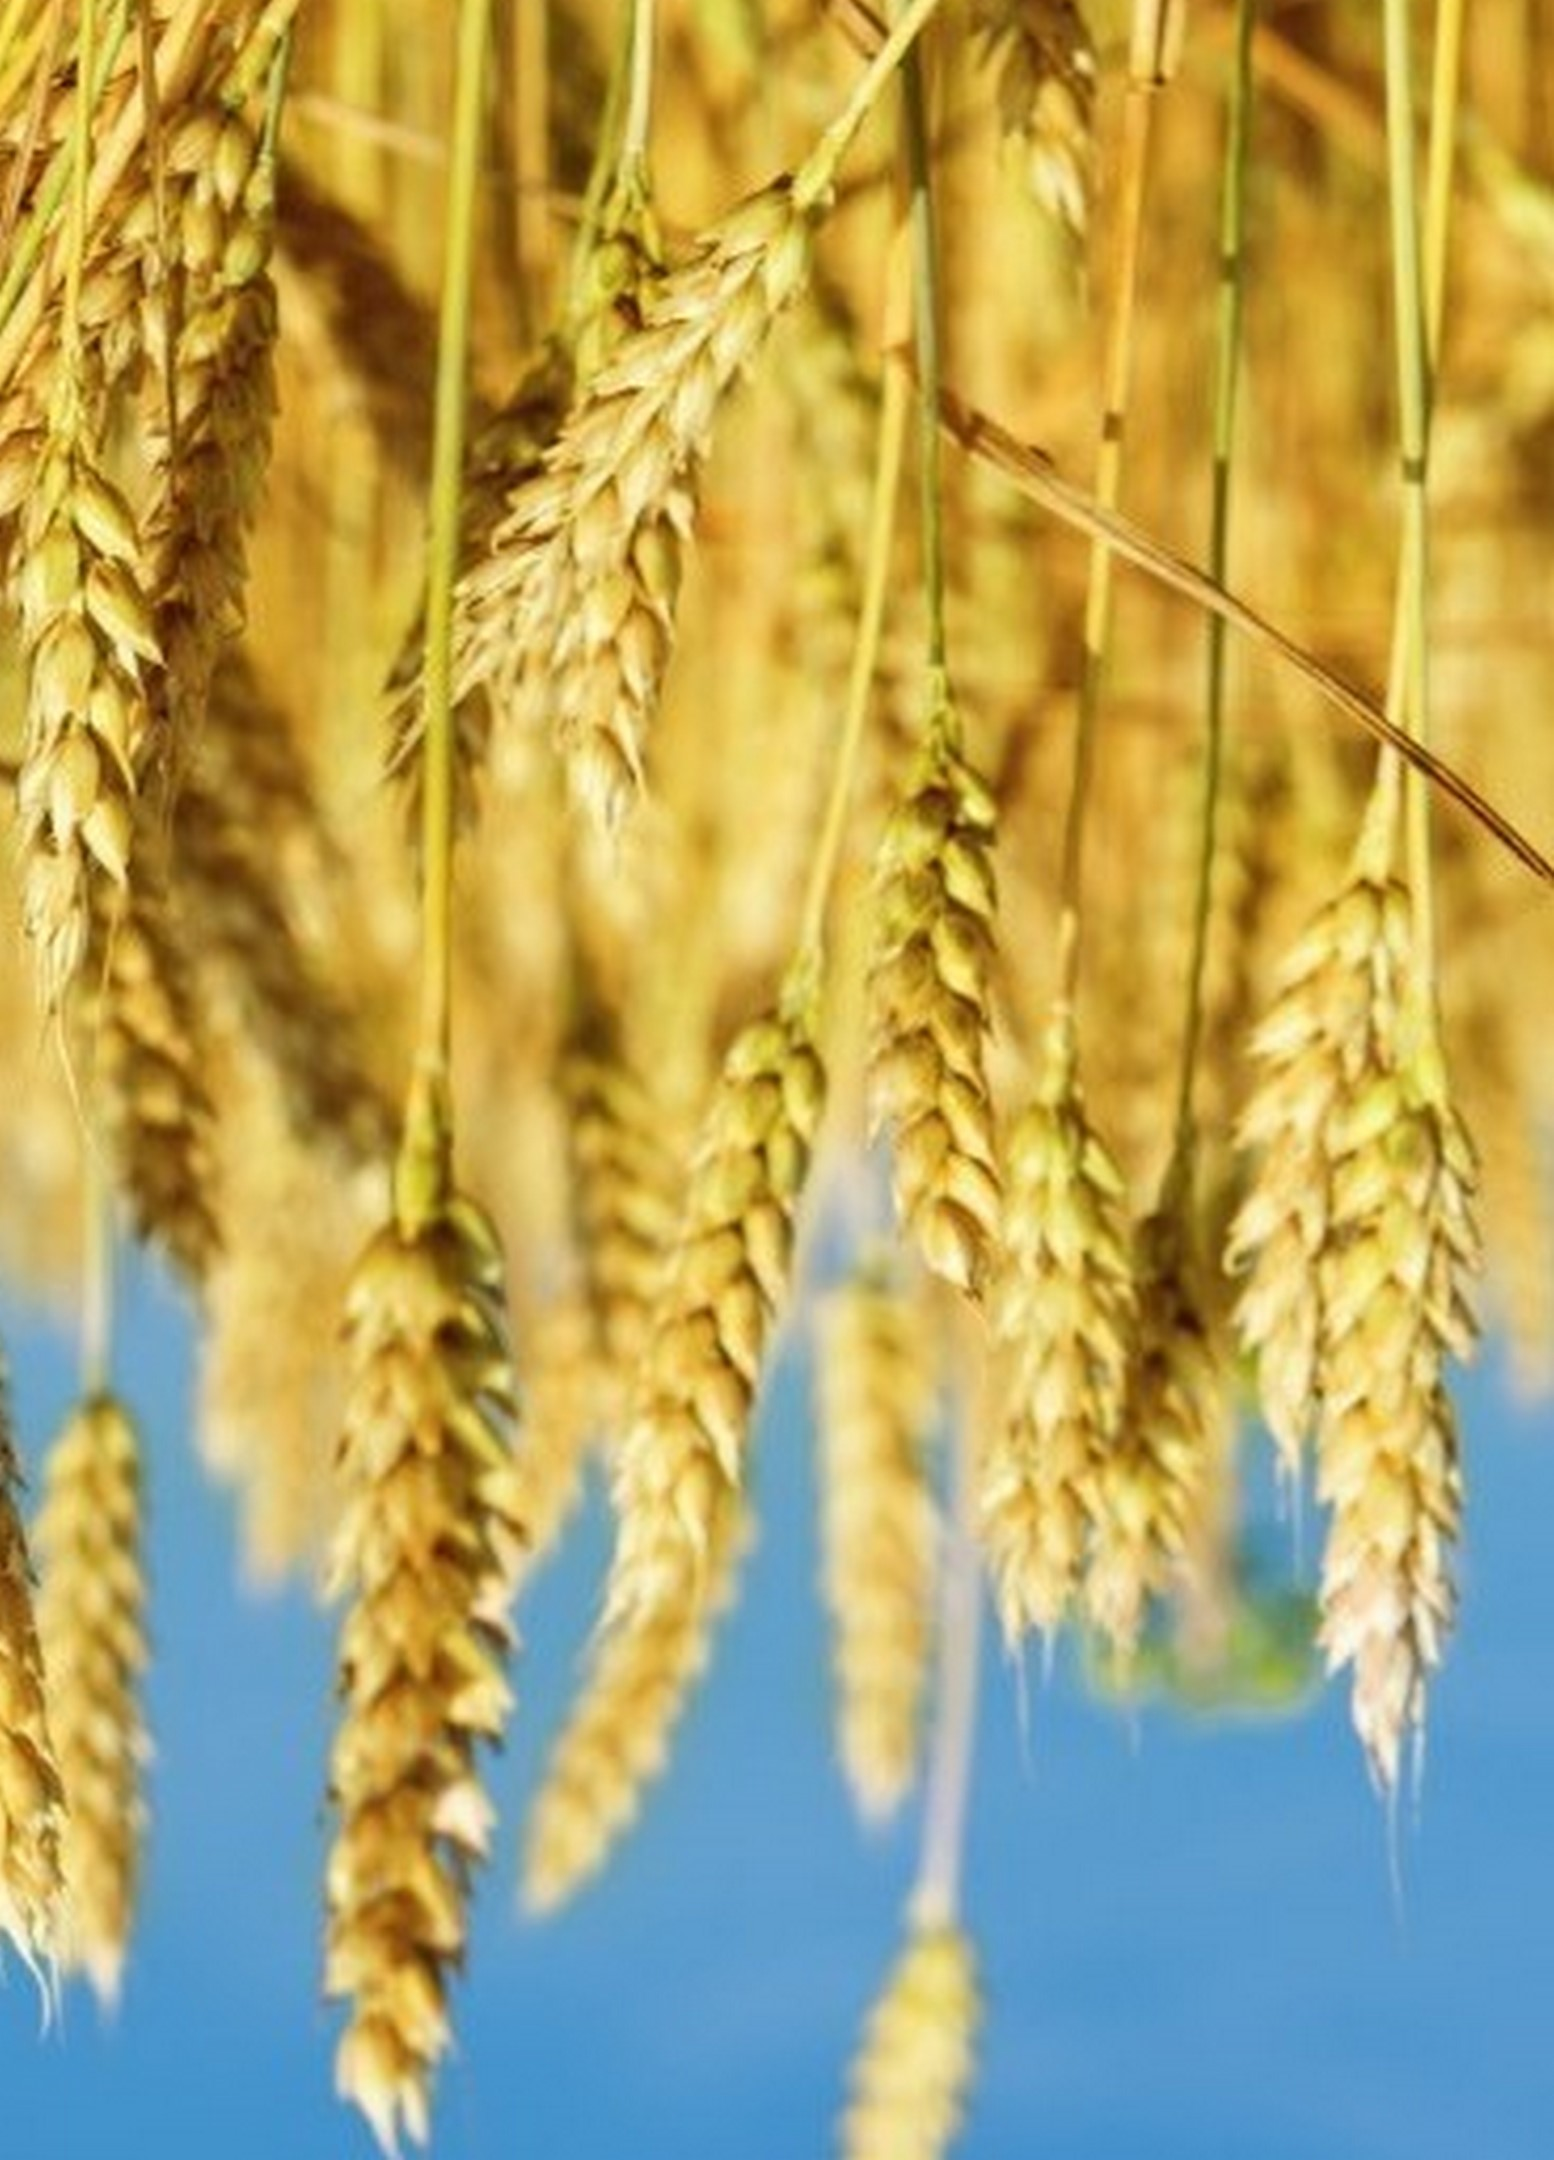Healthy Wheat: (1227, 833, 1526, 1803), (449, 159, 813, 667), (835, 719, 1085, 1261)
